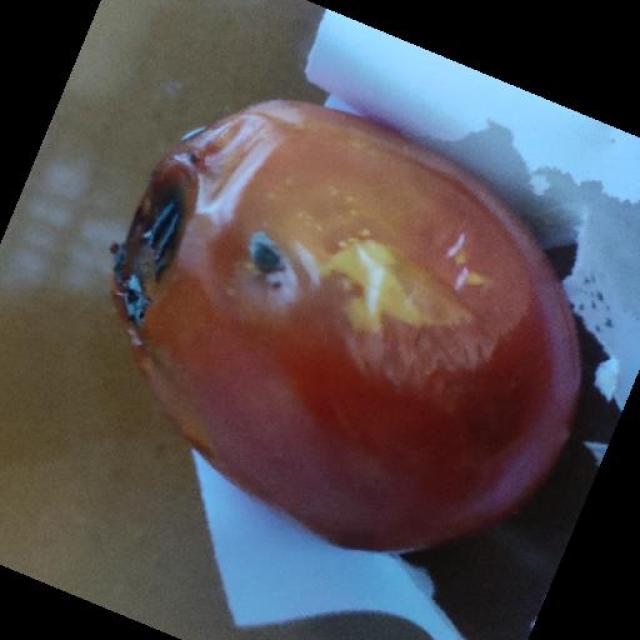Stale_tomato: (113, 83, 566, 536)
